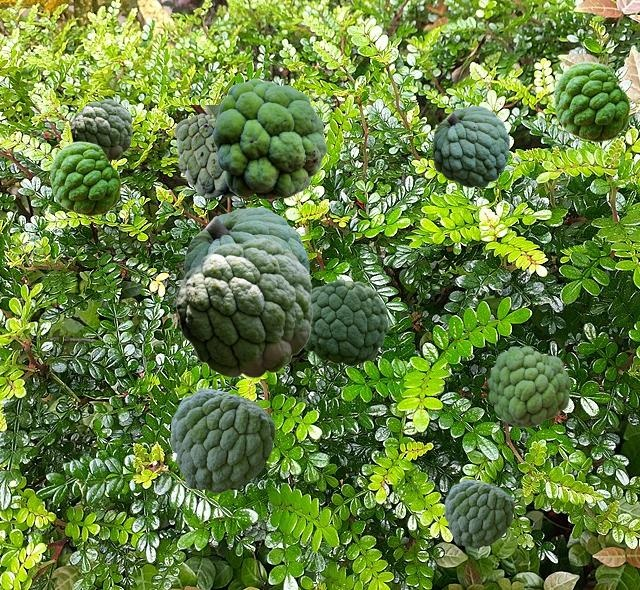atis: (175, 238, 312, 377), (212, 78, 326, 199), (170, 388, 274, 492), (184, 207, 308, 275), (305, 279, 387, 365), (487, 346, 569, 426), (554, 61, 629, 141), (433, 106, 508, 186), (174, 105, 234, 198), (50, 141, 120, 215), (444, 479, 513, 547), (70, 99, 131, 161)
